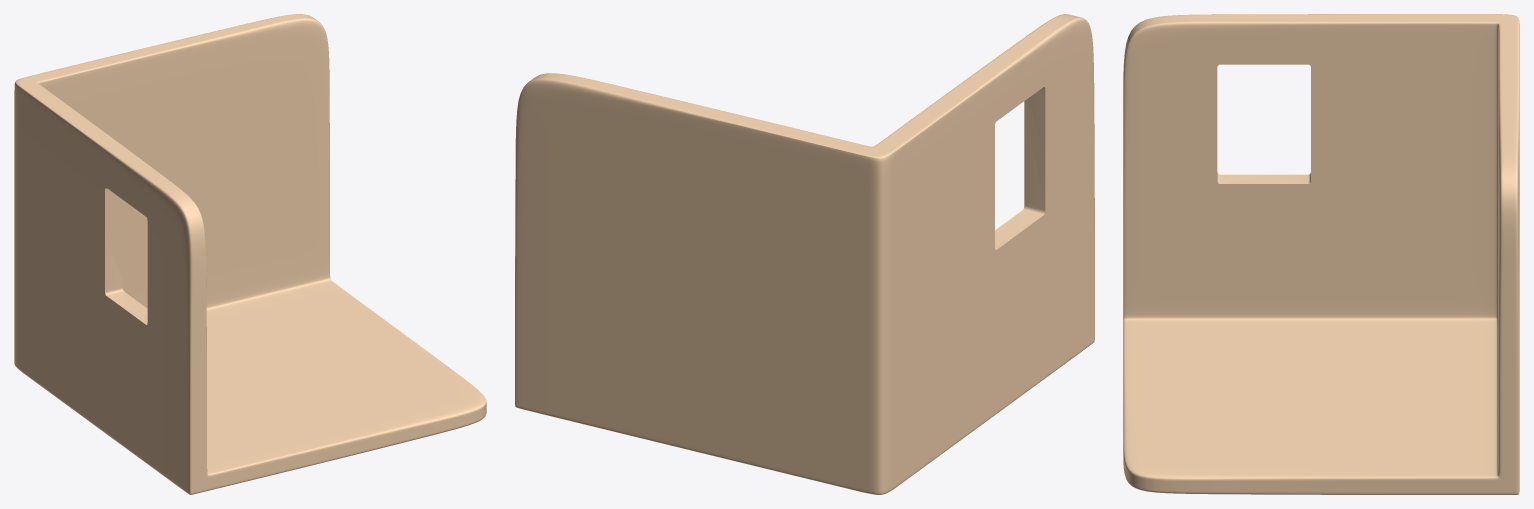
Rendered from room-yellow.glb.
3 renders of one model, left to right at view 1: azimuth 30°, elevation 25°; view 2: azimuth 150°, elevation 25°; view 3: azimuth 270°, elevation 25°, orthographic. The views are drawn at different scales.
Parts seen in each view (by area): view 1: Boolean; view 2: Boolean; view 3: Boolean.
Part boxes in pixels (x1=…): Boolean: x1=14, y1=14, x2=486, y2=494; Boolean: x1=515, y1=14, x2=1094, y2=494; Boolean: x1=1123, y1=14, x2=1519, y2=494.
Size of the model in its own units: 8.12 by 7.12 by 8.12.
